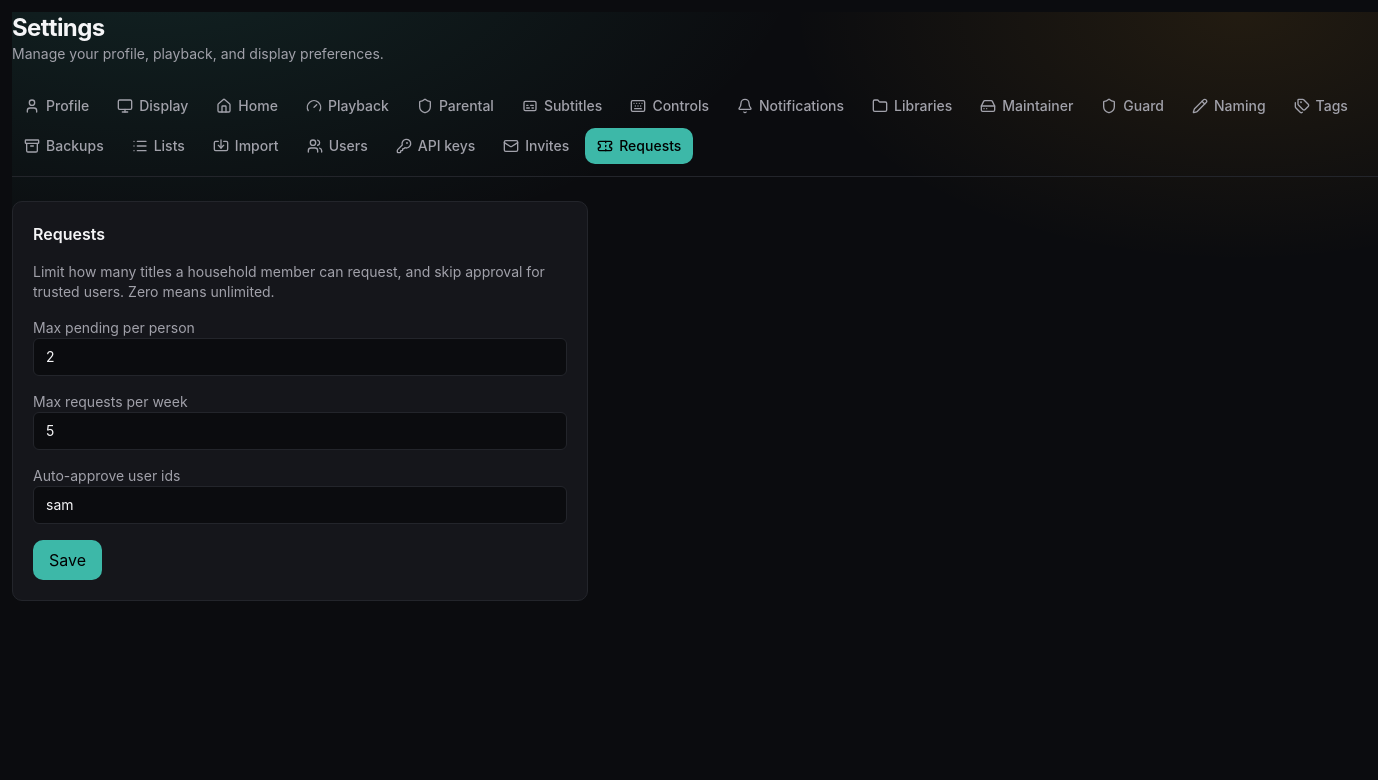
Test: Settings page › lets admin save household request policy
Check: the form with test id "settings-requests" is shown, box [12, 201, 588, 601]
Check: the heading "Requests" is shown, box [33, 224, 105, 244]
Replace the text in the number field with test id "settings-max-pending" with "3". click: (300, 357)
box: [33, 338, 567, 376]
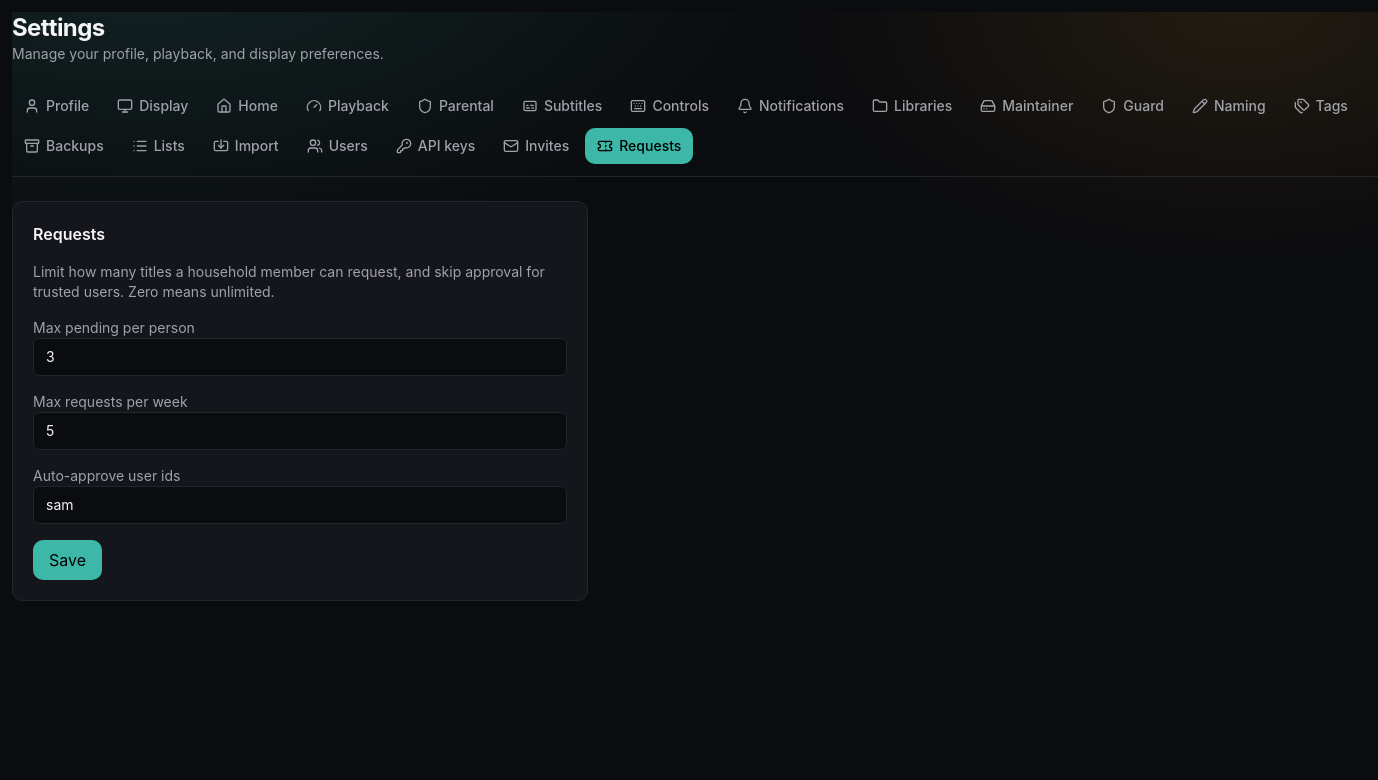
Replace the text in the number field with test id "settings-max-week" with "6". click: (300, 431)
box: [33, 412, 567, 450]
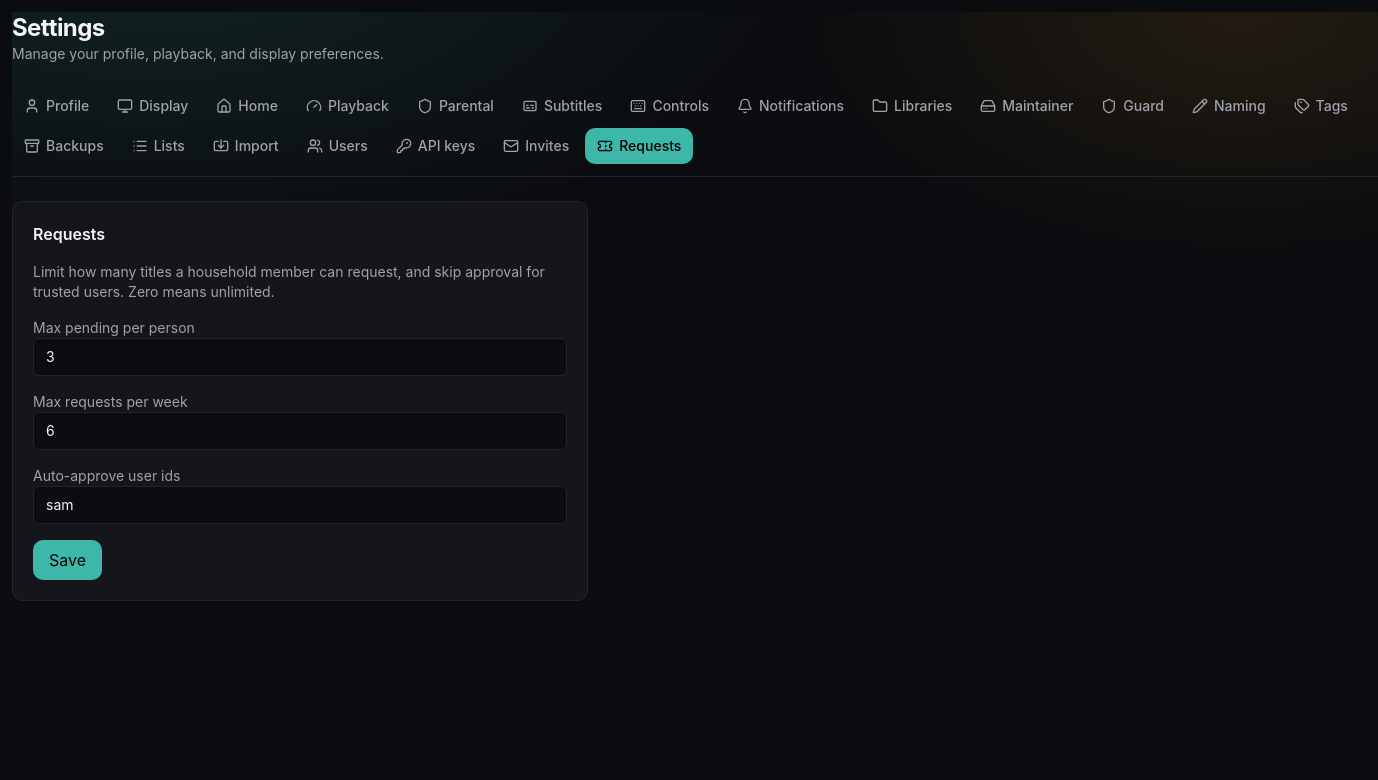
Replace the text in the field with test id "settings-auto-approve" with "sam, alex". click: (300, 505)
box: [33, 486, 567, 524]
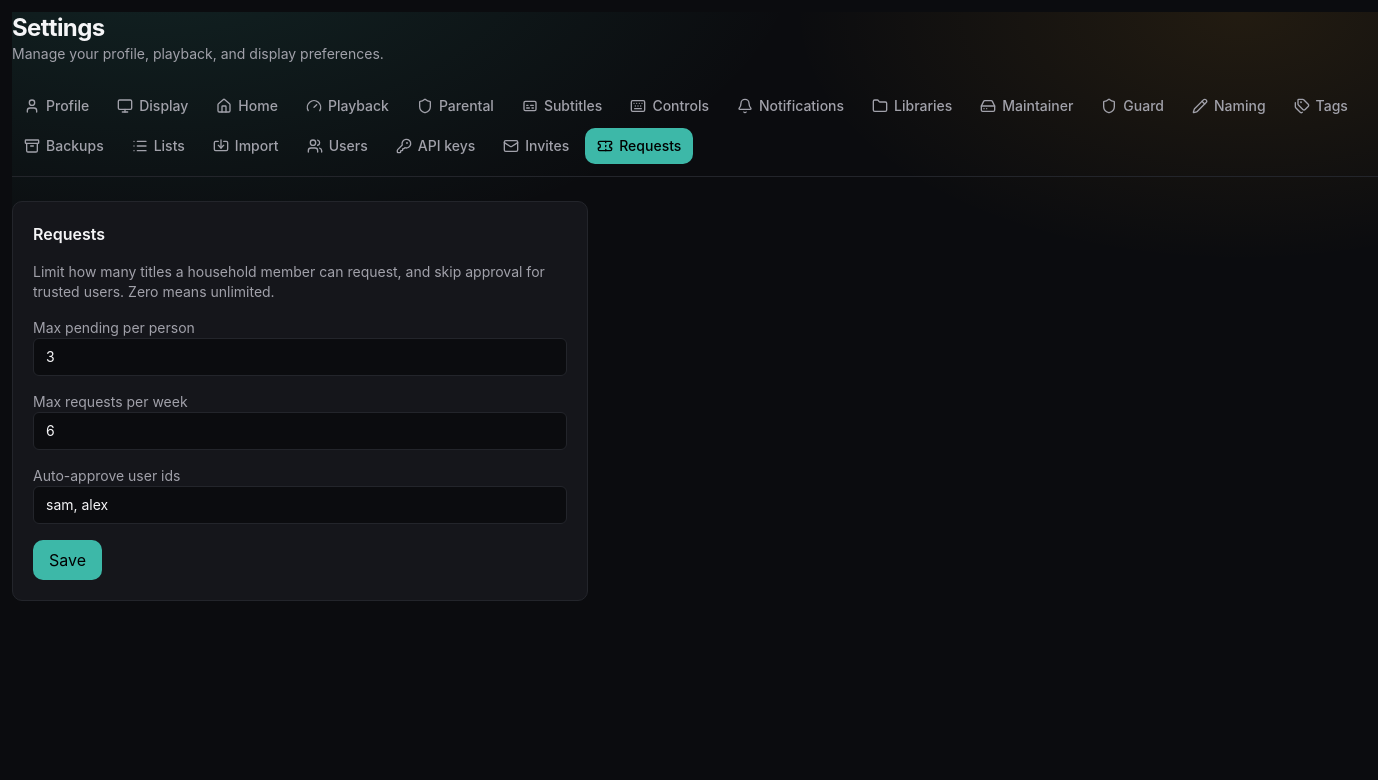
Click the button "Save". click: (68, 560)
box: [33, 540, 102, 580]
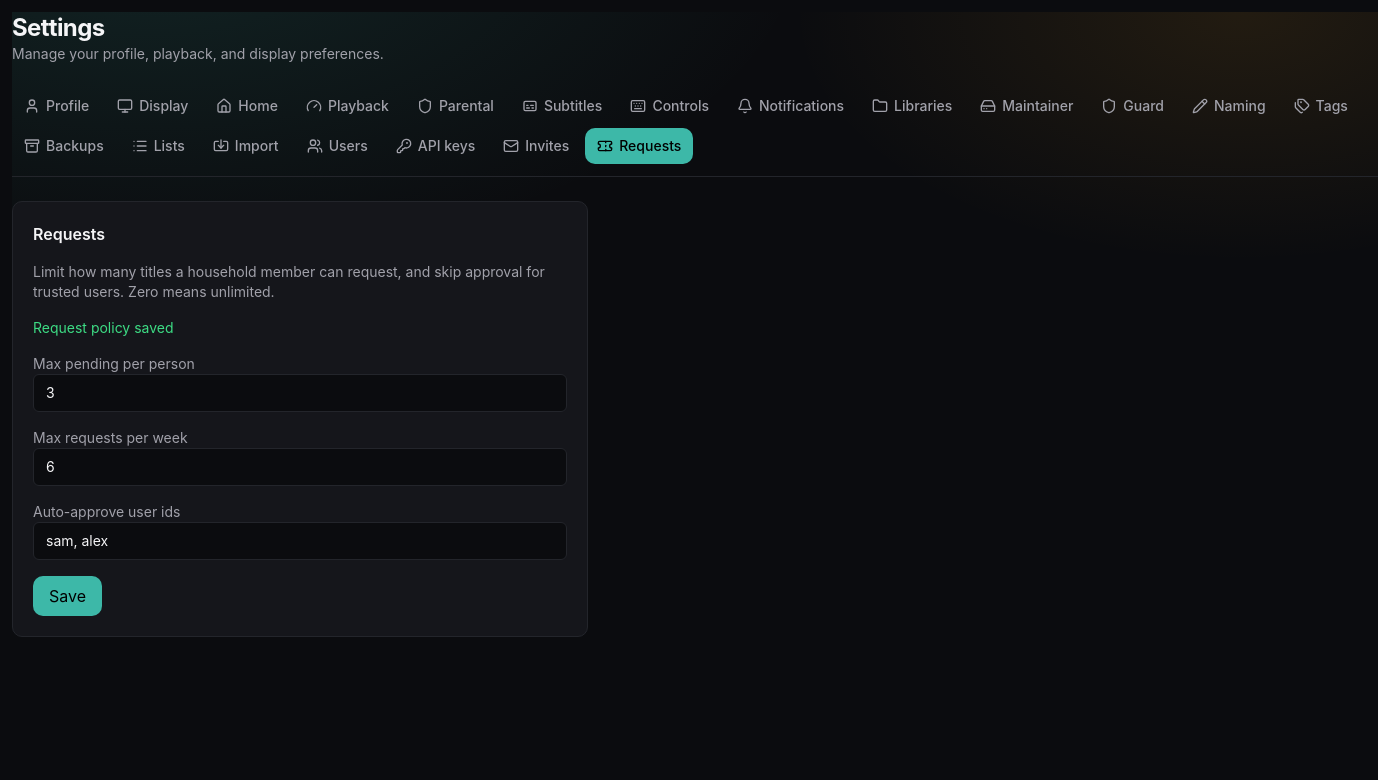
Check: the message reads "Request policy saved", box [33, 319, 174, 336]
